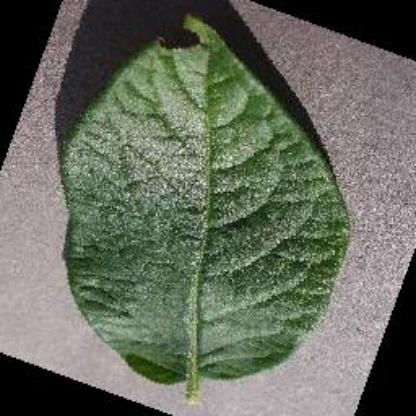Healthy-plant: (56, 12, 354, 400)
